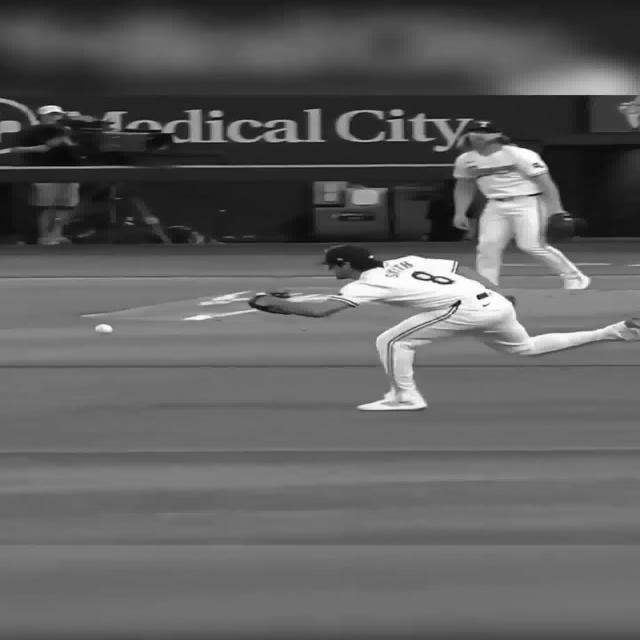baseball: (94, 324, 112, 334)
baseball_glove: (248, 290, 292, 314)
shoe: (355, 390, 427, 410), (612, 318, 640, 341), (562, 274, 590, 290)
